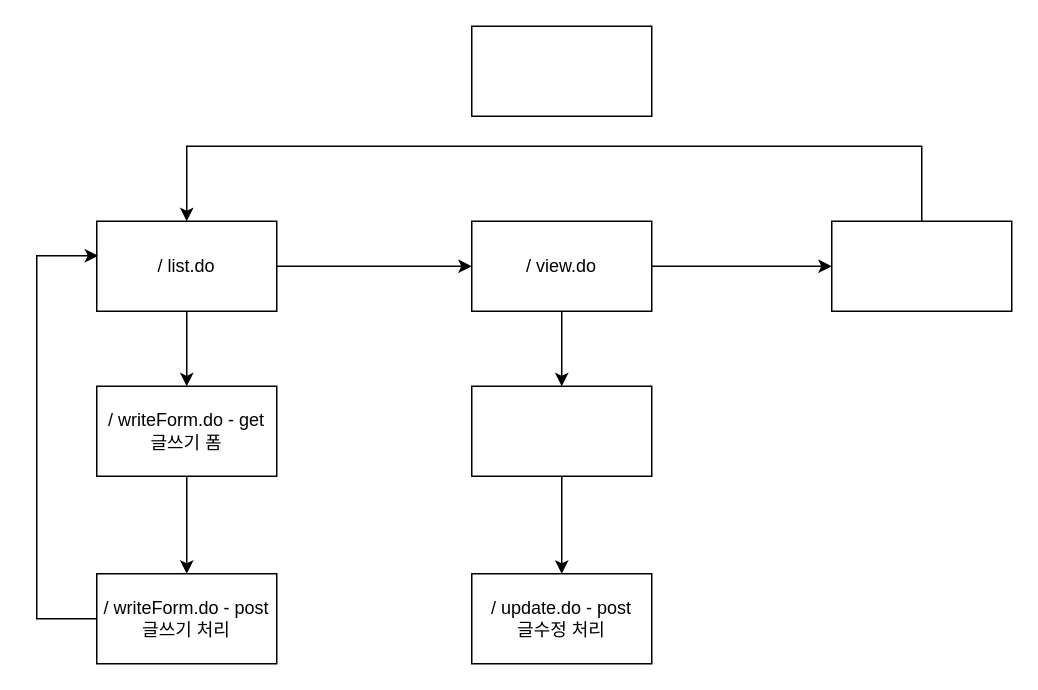
Image size: 1038x690. Some labels were removed from this diagram. The shapes that lost their labels are listed below. From the top down, each one's centre as x and y in pixels, then its label:
[561,70]: / board
[921,265]: / delete.do
[561,430]: / update.do - get 글수정 폼
